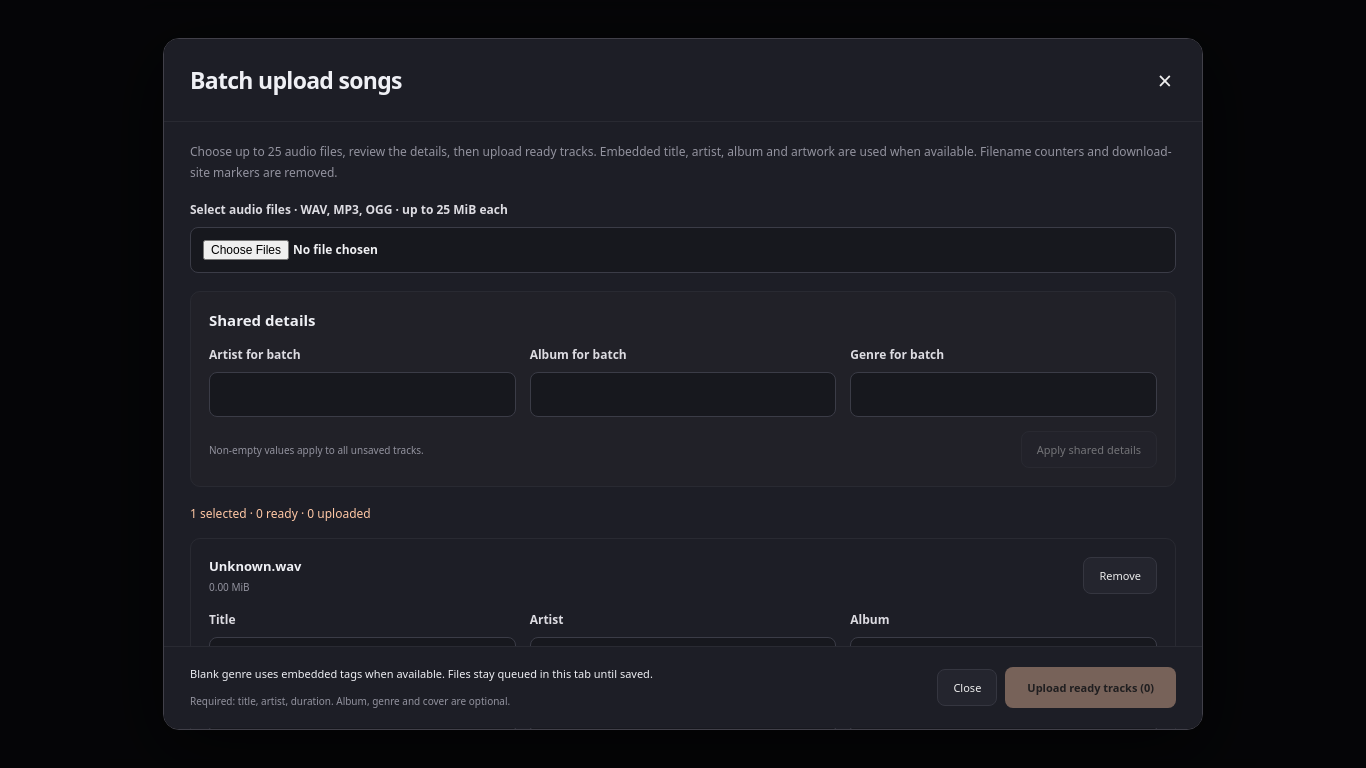
Scenario: does not retry a network failure whose server outcome is unknown
Earlier steps of the test are not shown.
Type "Batch Artist" into the field labelled "Artist for batch" at [362, 395], box [209,372,516,417]
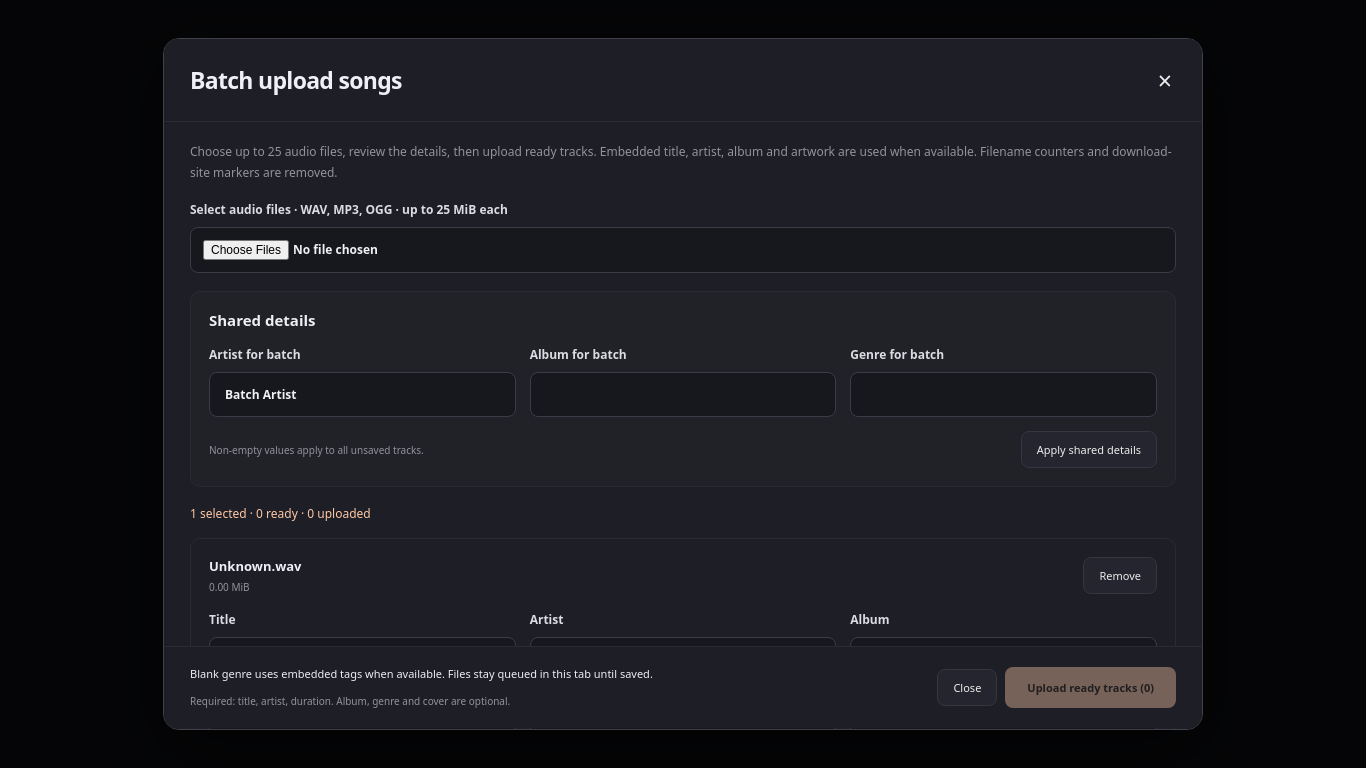
Click the button "Apply shared details" at [1089, 450], box [1021,431,1157,468]
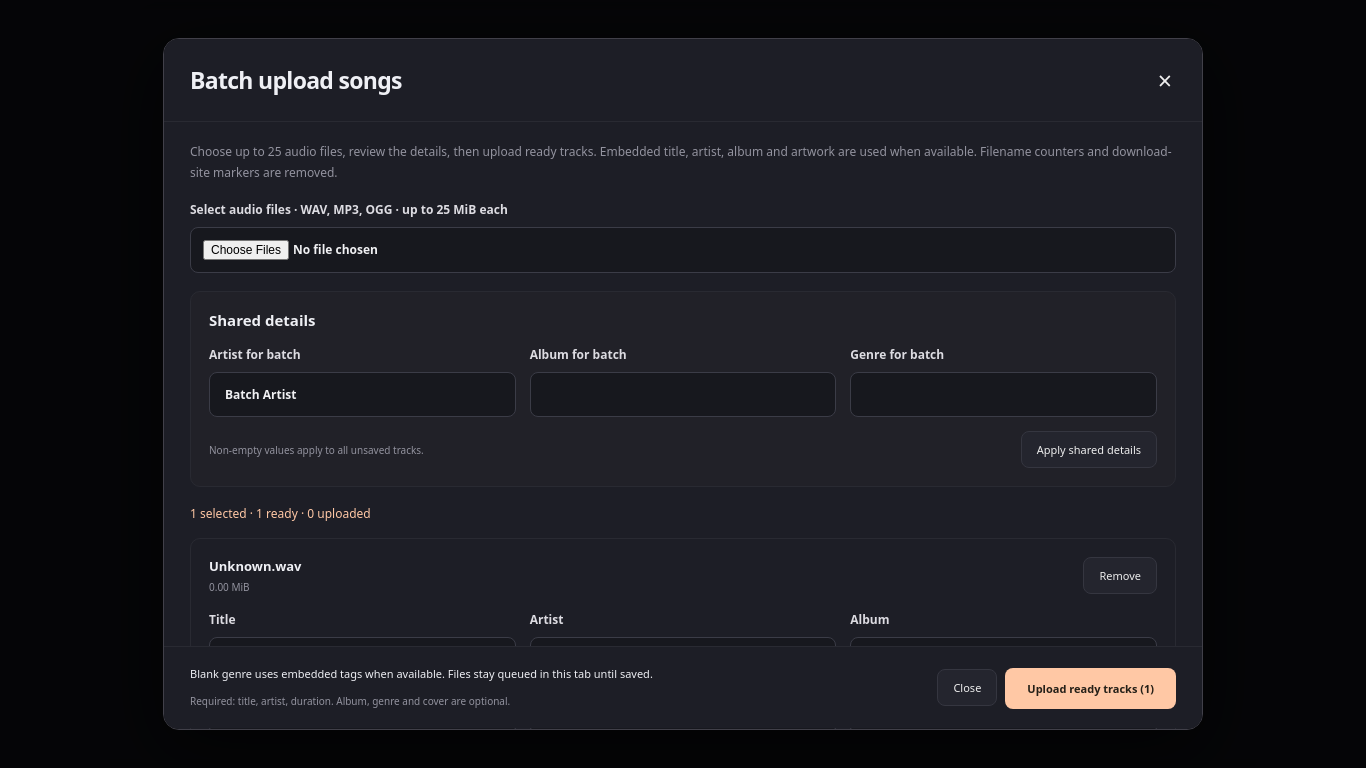
Click the button "Upload ready tracks (1)" at [1091, 688], box [1005,667,1176,708]
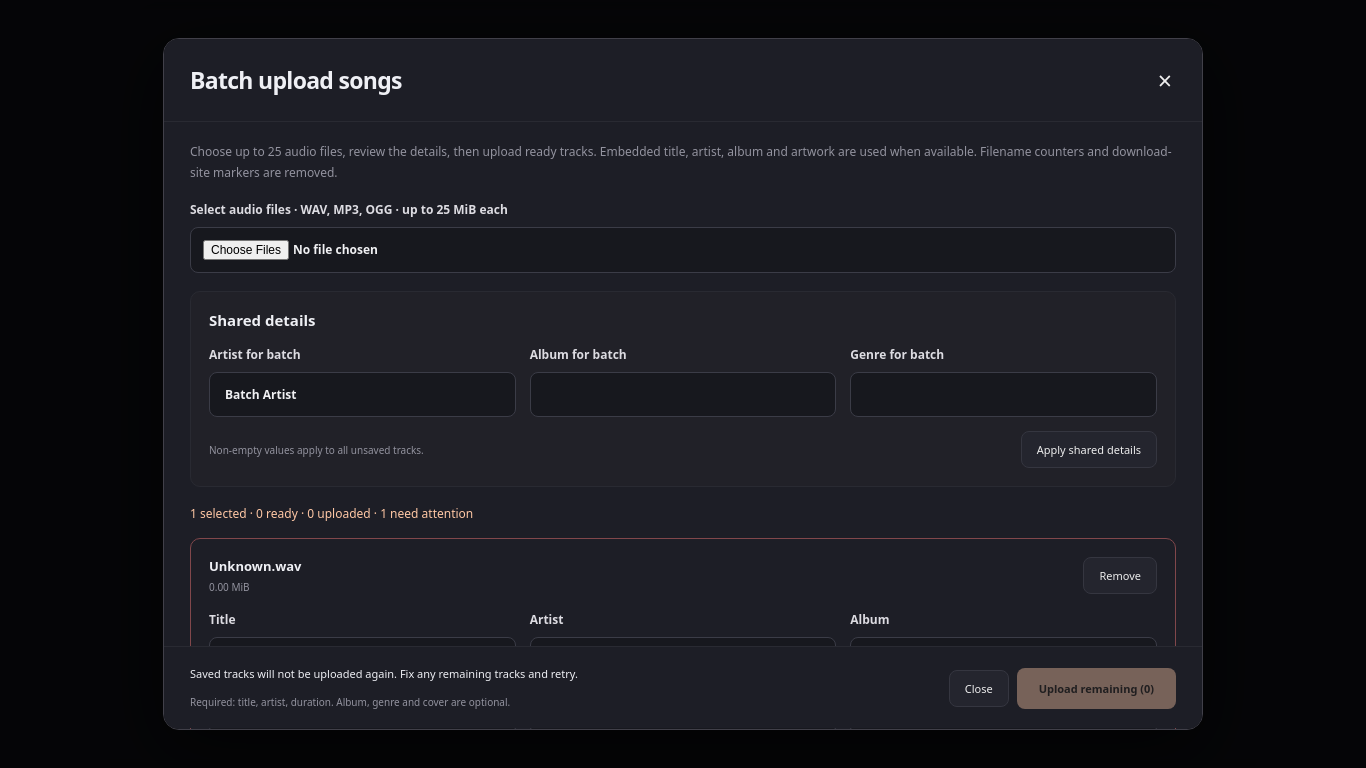
Result: the button "Upload remaining (0)" is disabled at [1017,667,1176,708]
